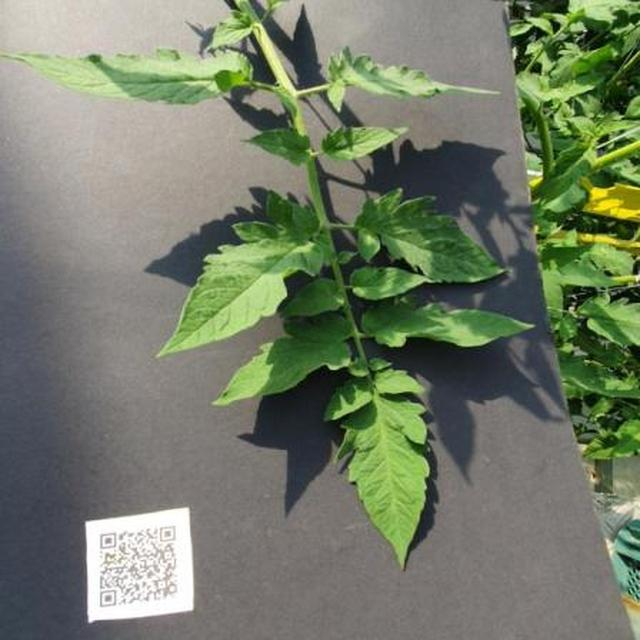Healthy Leaf: (104, 51, 640, 640)
